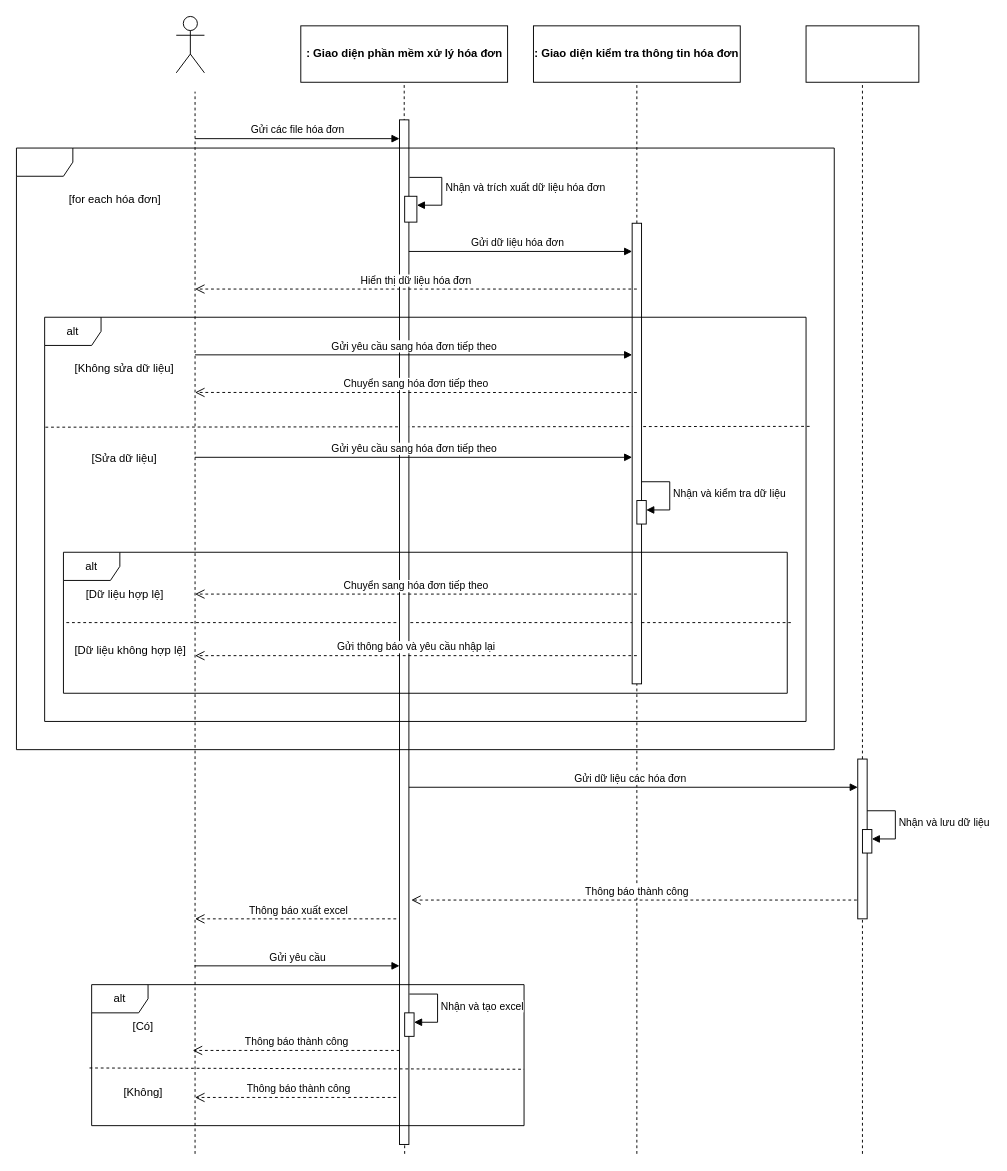
Image size: 1007x1171. Some labels were removed from this diagram. The shapes that lost their labels are listed below. From the top down, each one's centre as x and y in pixels, then its label:
point 189,44: : Người dùng
point 862,53: : Cơ sở dữ liệu
point 425,448: loop
